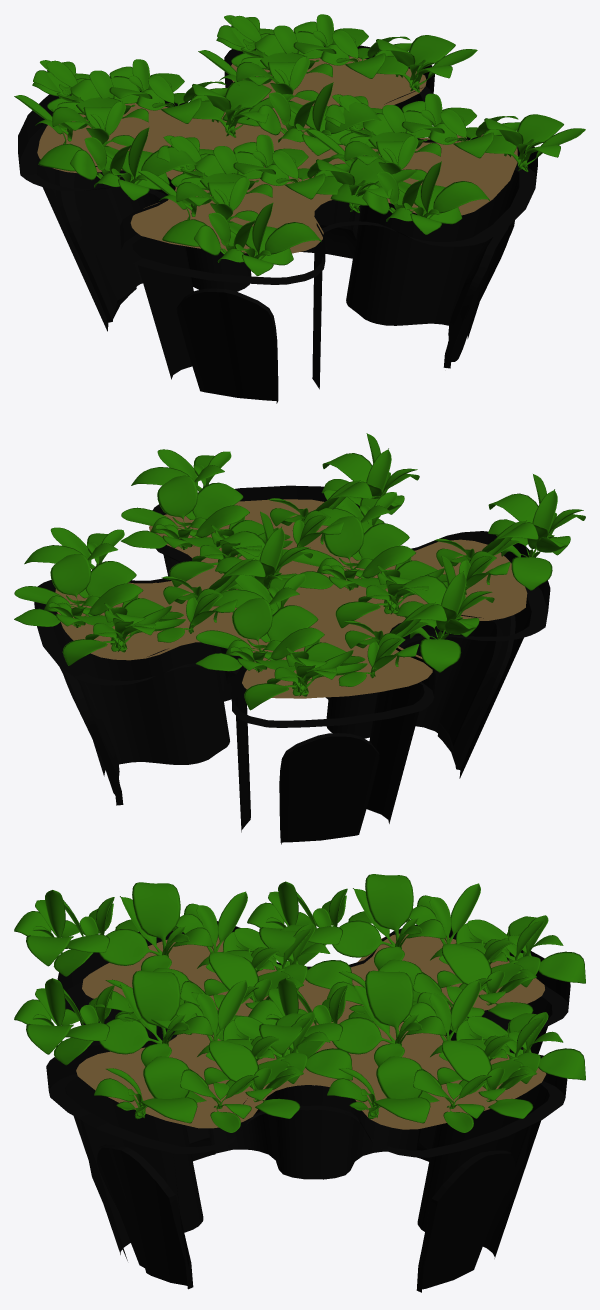
File: planter.glb
3 views of the same model, one above another, from view 1: azimuth 30°, elevation 25°; view 2: azimuth 150°, elevation 25°; view 3: azimuth 270°, elevation 25° (orthographic). The views are drawn at different scales.
Parts seen in each view (by area): view 1: Bergenia Rotblum Set.067, Circle.033; view 2: Bergenia Rotblum Set.067, Circle.033; view 3: Bergenia Rotblum Set.067, Circle.033.
Part boxes in pixels (x1,y1,x2,y2): Bergenia Rotblum Set.067: [14, 14, 585, 275]; Circle.033: [18, 45, 537, 403]; Bergenia Rotblum Set.067: [14, 433, 585, 710]; Circle.033: [34, 485, 550, 844]; Bergenia Rotblum Set.067: [14, 874, 585, 1132]; Circle.033: [46, 921, 570, 1292].
Bounding box in the file's own units: 4.67 × 2.59 × 5.06.
